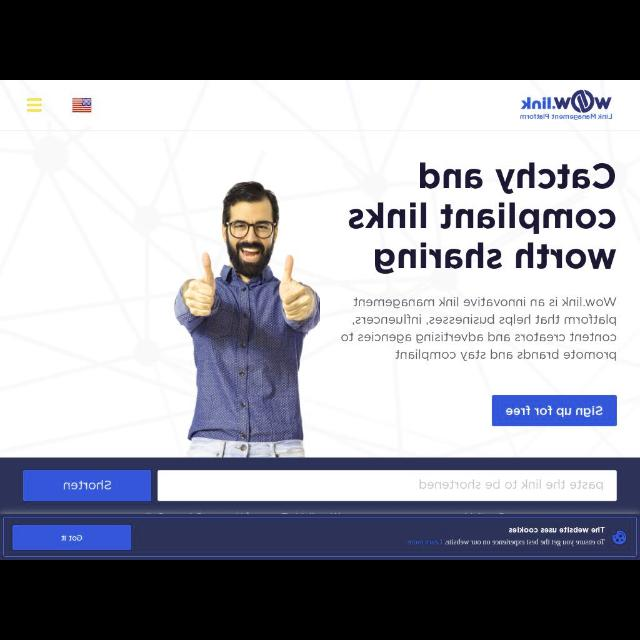icon: (25, 98, 43, 114), (611, 530, 625, 546)
image: (174, 181, 320, 457), (520, 90, 612, 110), (71, 97, 91, 113)
input: (157, 471, 617, 502)
text: (348, 162, 616, 274), (340, 295, 616, 361), (418, 479, 604, 491), (407, 538, 605, 546), (506, 406, 602, 418), (507, 526, 605, 534), (65, 480, 112, 492), (520, 114, 612, 120), (60, 534, 84, 544)
textbutton: (493, 394, 617, 426), (23, 471, 150, 501), (13, 526, 131, 550)
toolbar: (1, 80, 639, 130)
